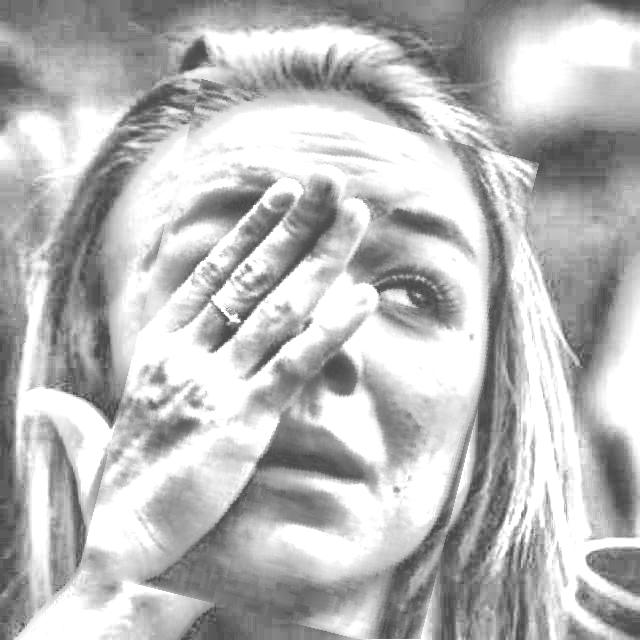sad: (107, 97, 511, 637)
